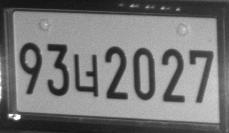0: (131, 46, 156, 101)
2: (103, 45, 128, 99), (161, 47, 185, 102)
3: (46, 42, 70, 96)
7: (188, 49, 214, 103)
9: (17, 41, 43, 95)
너: (73, 53, 100, 97)
